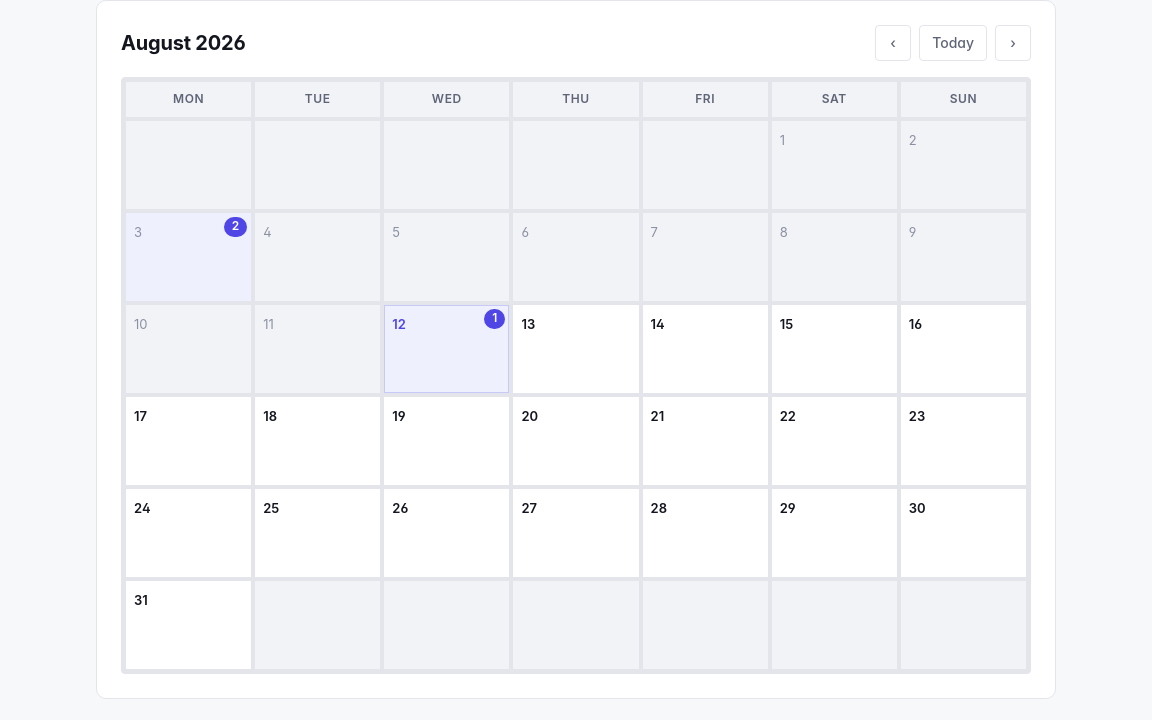
Test: Calendar page › ignores a slow day answer once another day is open
// The 3rd holds two notes, the 12th one. Open the slow day, then the fast one.
What coordinates should you click on to do the following:
click the element with class "cal-cell" showing "3 2"
I would click on:
 (189, 257)
Its box is [126, 213, 251, 301].
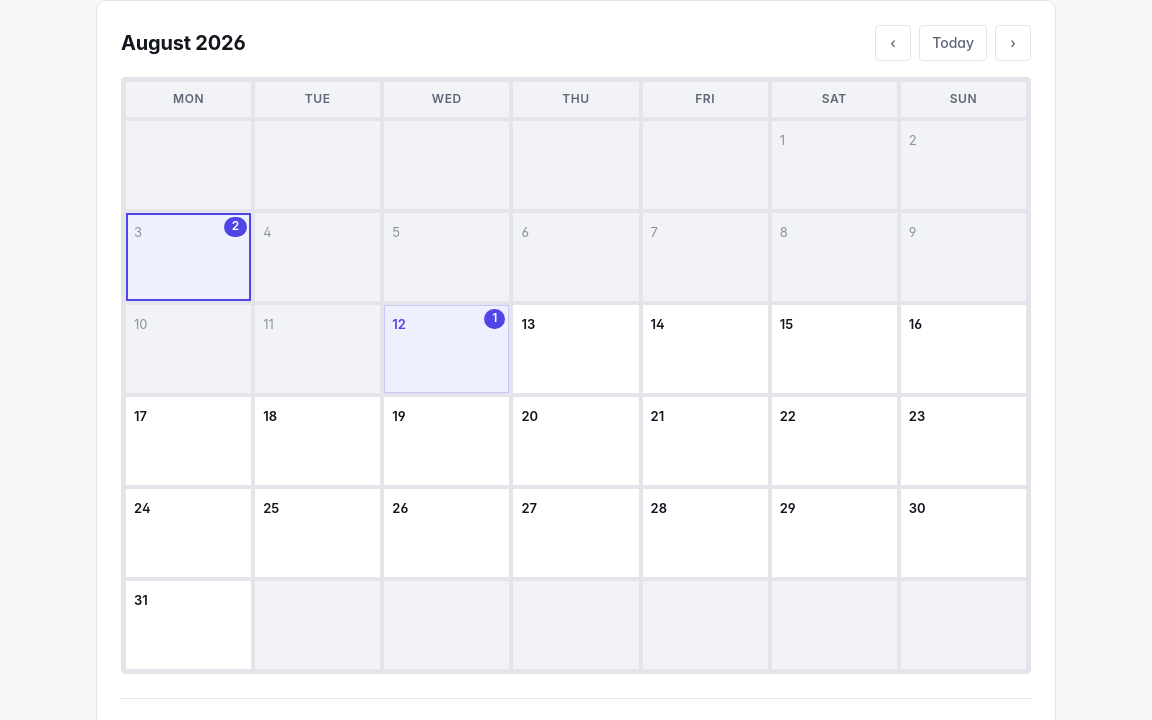
What coordinates should you click on to do the following:
click the element with class "cal-cell" showing "12 1"
I would click on:
 (447, 349)
Its box is [384, 305, 509, 393].
(page scrolled)
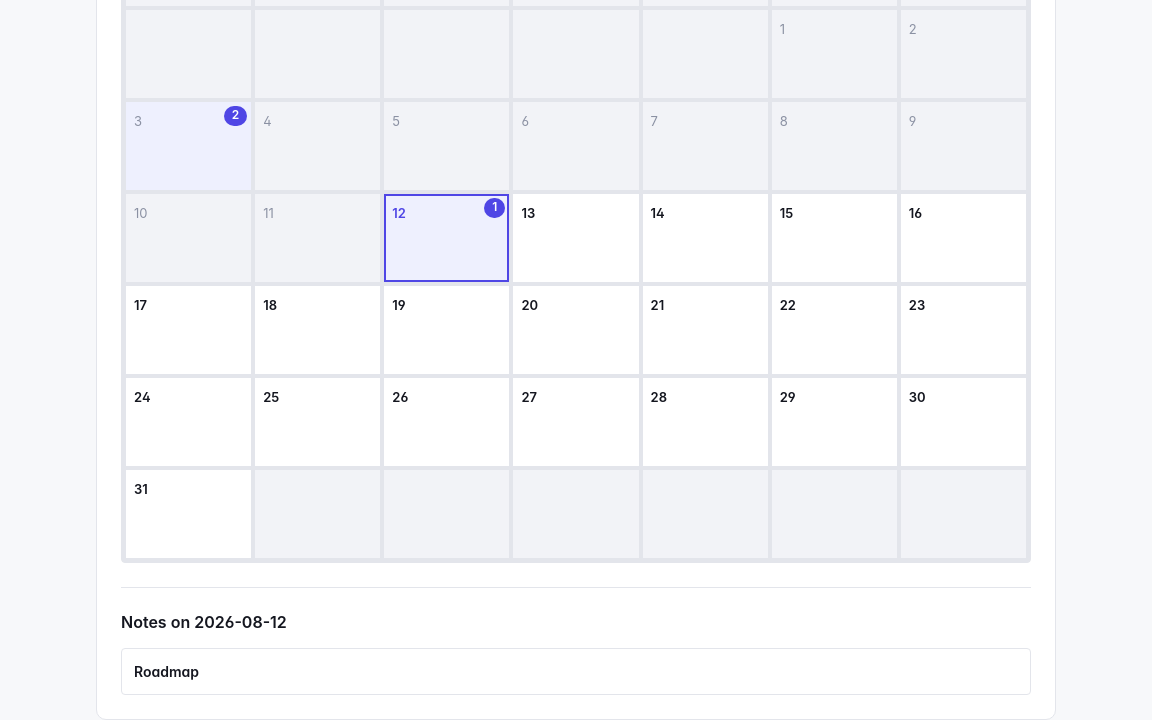
Result: the text "Roadmap" is shown at [134, 663, 199, 680]
